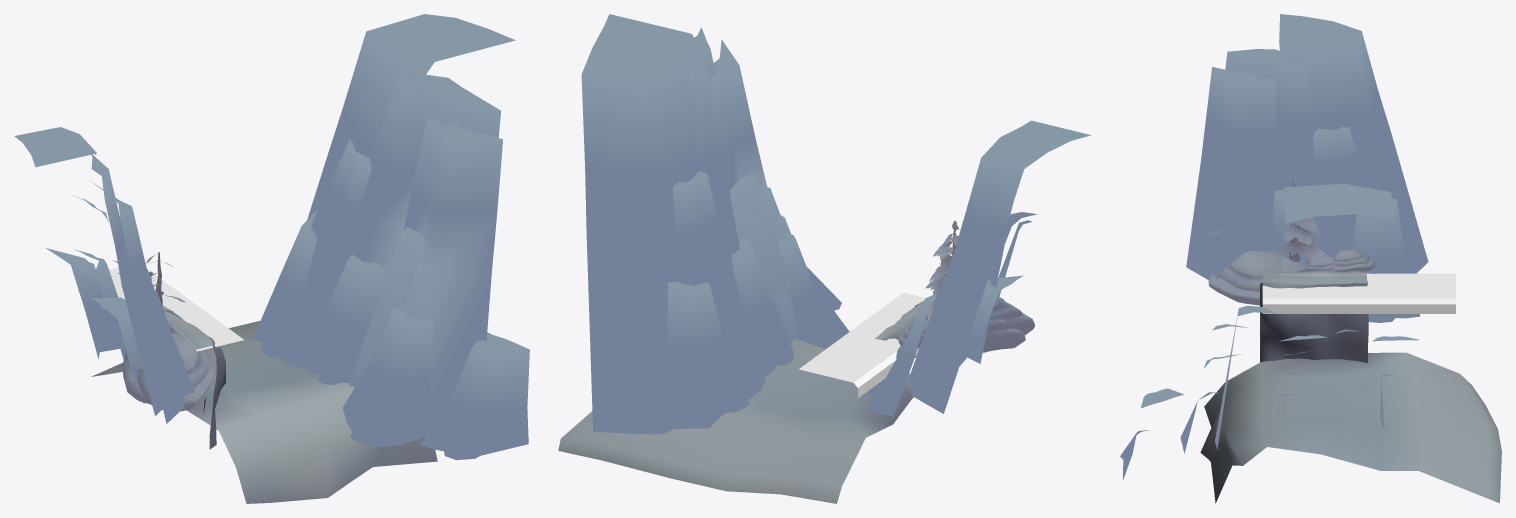
The model's file is Arctic_Narrows_Right_Transition_Post_A.glb.
The picture shows the model from 3 angles, left to right: view 1: azimuth 30°, elevation 25°; view 2: azimuth 150°, elevation 25°; view 3: azimuth 270°, elevation 25°; orthographic projection. The views are drawn at different scales.
Parts seen in each view (by area): view 1: Arctic_Narrows_Right_Transition_Post_A, inv_fill; view 2: Arctic_Narrows_Right_Transition_Post_A, inv_fill; view 3: Arctic_Narrows_Right_Transition_Post_A, inv_fill.
Boxes of the visible parts, <box> form: Arctic_Narrows_Right_Transition_Post_A: <box>14,14,529,503</box>; inv_fill: <box>78,267,243,351</box>; Arctic_Narrows_Right_Transition_Post_A: <box>558,14,1090,503</box>; inv_fill: <box>799,292,925,397</box>; Arctic_Narrows_Right_Transition_Post_A: <box>1120,14,1501,503</box>; inv_fill: <box>1262,273,1455,313</box>.
Size of what is drawn, in the model's own units: 28.16 by 20.47 by 21.11.
